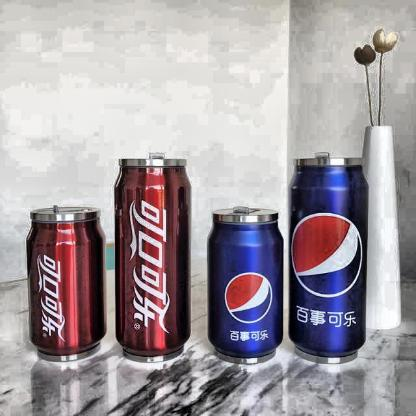Can: (108, 148, 192, 368), (284, 152, 370, 364), (23, 200, 112, 362), (207, 200, 285, 366)
